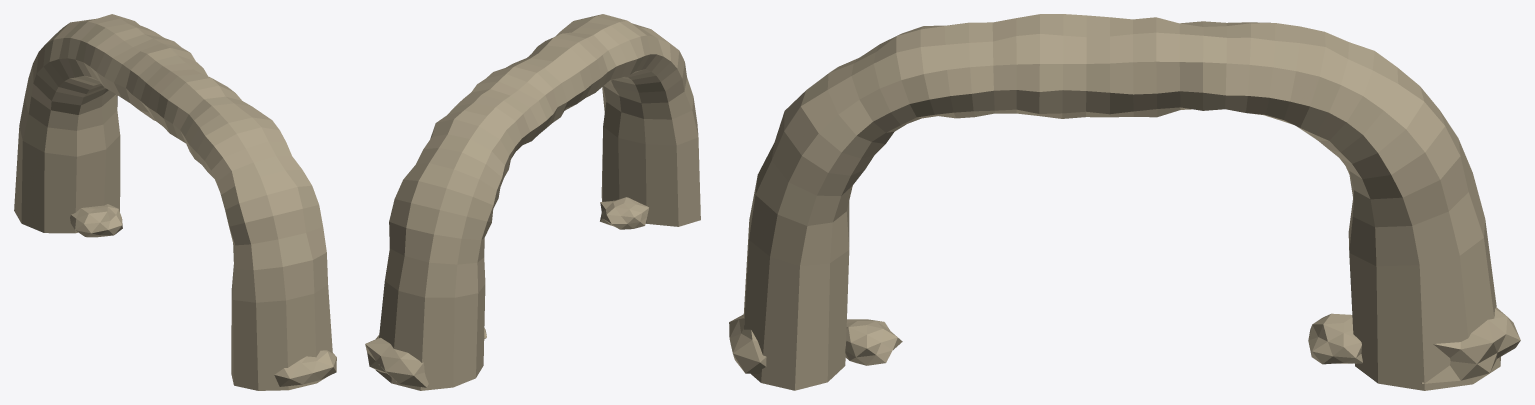
File: SM_SB_Kit_SandstoneArch.fbx
The picture shows the model from 3 angles, left to right: view 1: azimuth 30°, elevation 25°; view 2: azimuth 150°, elevation 25°; view 3: azimuth 270°, elevation 25°; orthographic projection. The views are drawn at different scales.
Visible parts, largest first — view 1: SM_SB_Kit_SandstoneArch; view 2: SM_SB_Kit_SandstoneArch; view 3: SM_SB_Kit_SandstoneArch.
Boxes of the visible parts, left/top/right/bottom form: SM_SB_Kit_SandstoneArch: left=14, top=14, right=336, bottom=390; SM_SB_Kit_SandstoneArch: left=365, top=14, right=700, bottom=390; SM_SB_Kit_SandstoneArch: left=729, top=14, right=1520, bottom=390.
Size of the model in its own units: 1842 by 8798 by 4092.
